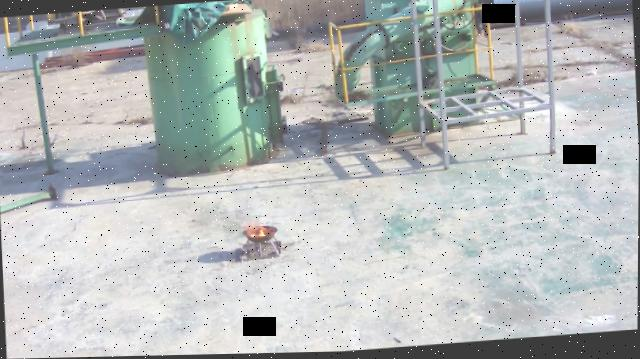fire: (246, 220, 277, 239)
